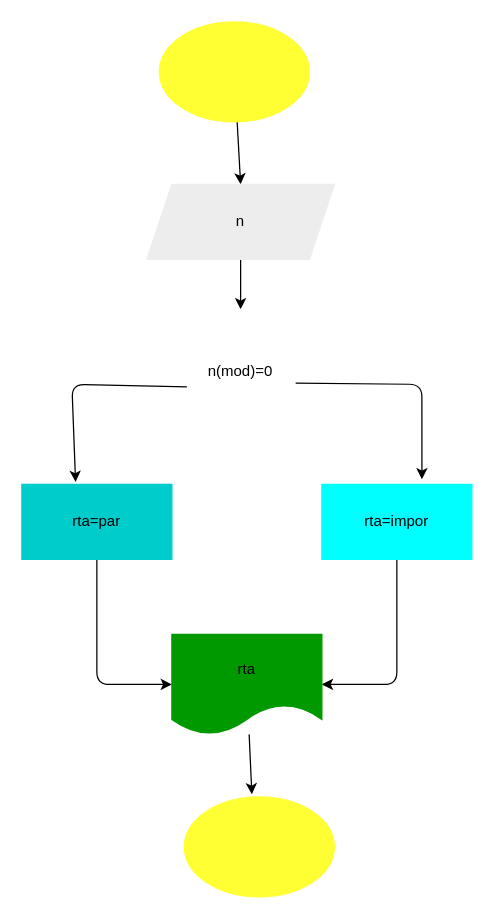
The diagram is 494 pixels wide and 919 high, and some of its shapes have lost their labels. The centre of each missing label's shape, as x and y in pixels:
"fin" belongs at (x=258, y=846).
"inicio" belongs at (x=233, y=71).
